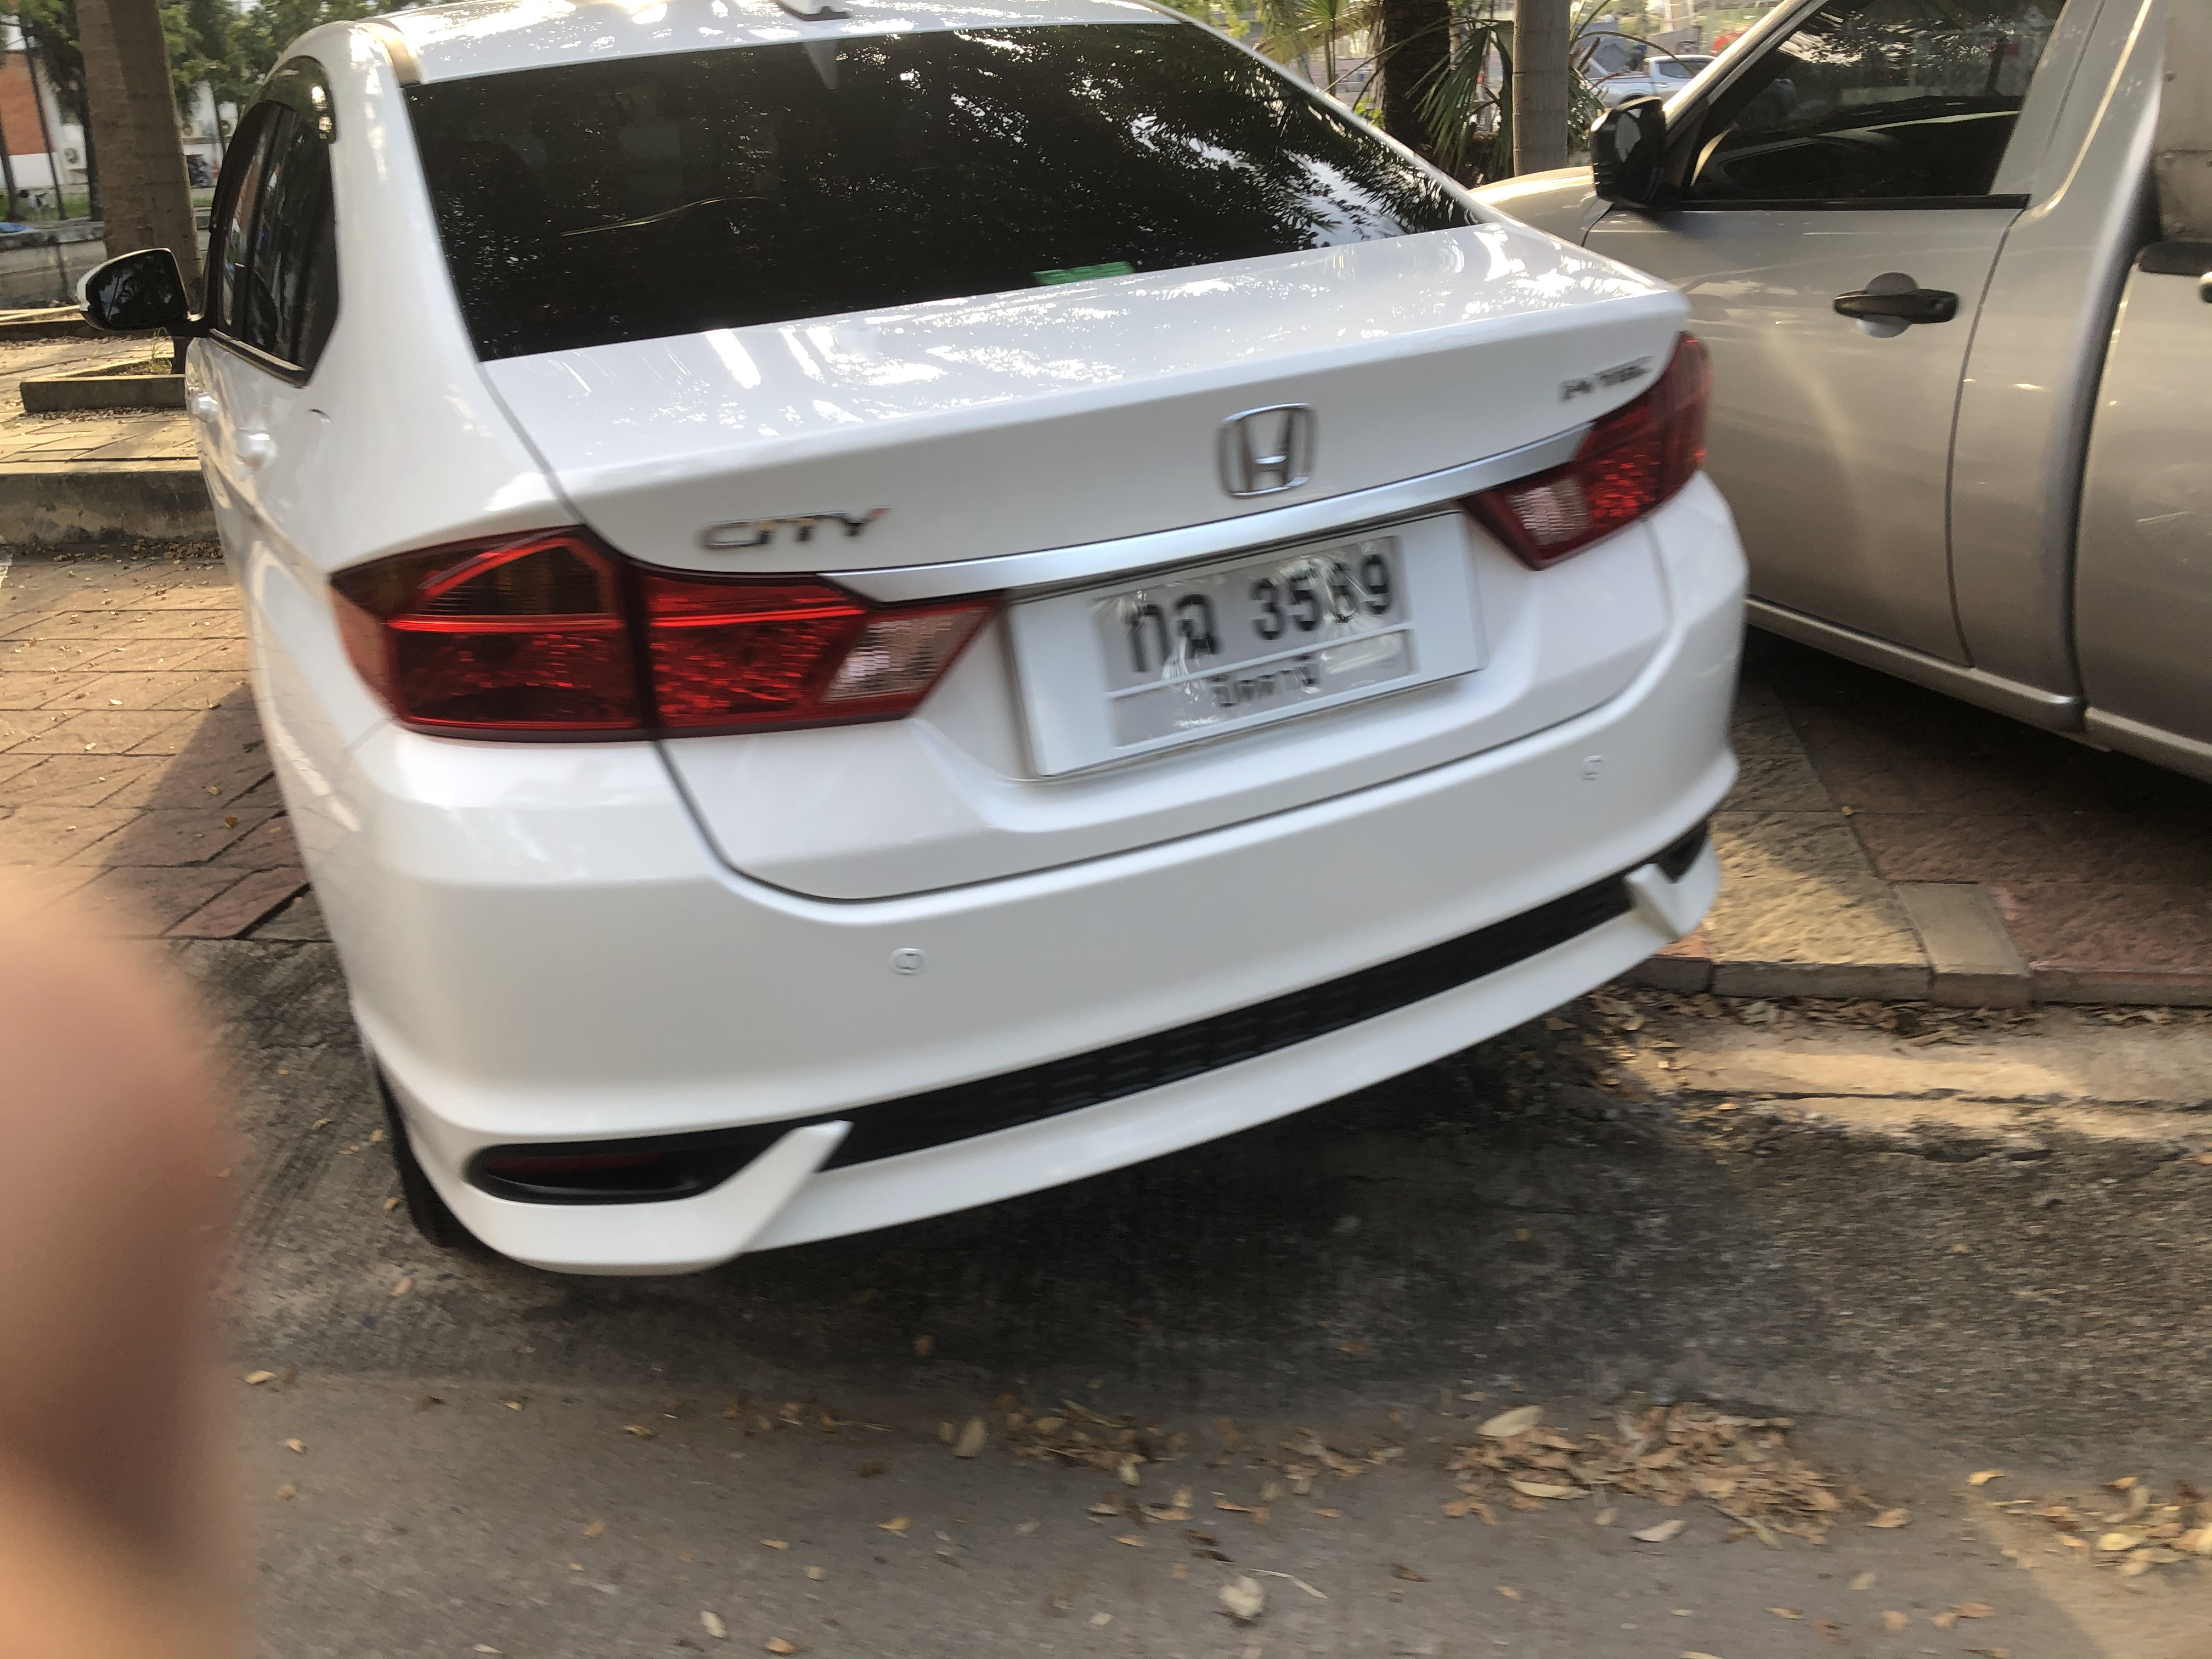in: (1096, 537, 1428, 742)
out: (998, 509, 1489, 777)
